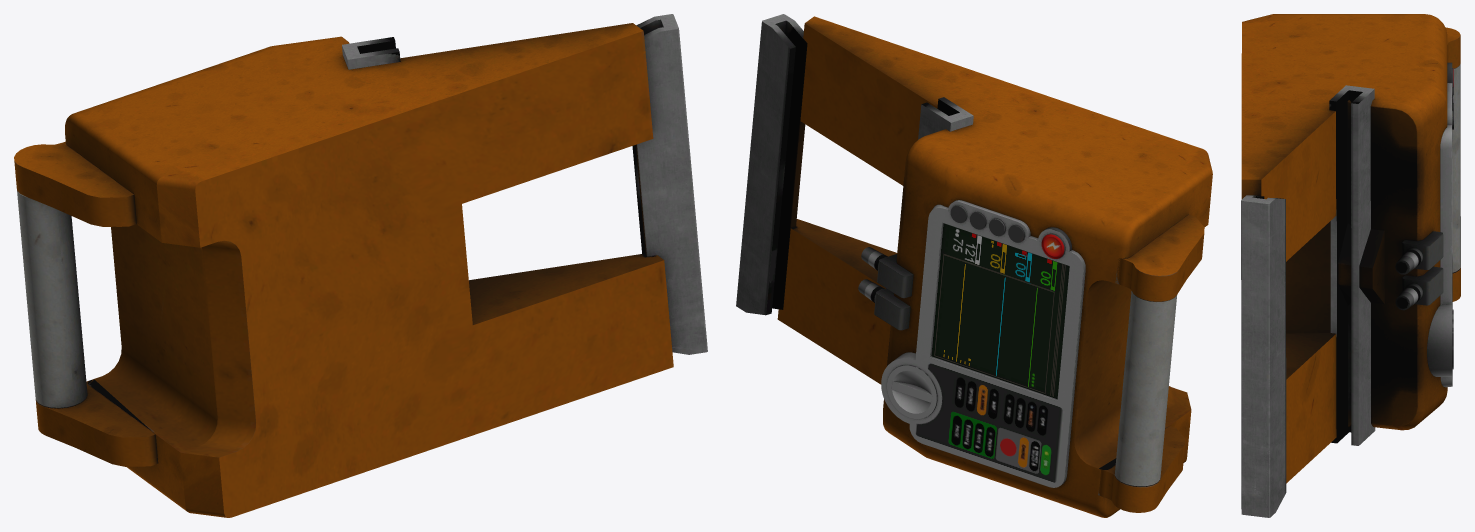
The model's file is w_eq_defibrillator_no_paddles.glb.
3 renders of one model, left to right at view 1: azimuth 30°, elevation 25°; view 2: azimuth 150°, elevation 25°; view 3: azimuth 270°, elevation 25°, orthographic. The views are drawn at different scales.
Visible parts, largest first — view 1: w_eq_defibrillator_no_paddles; view 2: w_eq_defibrillator_no_paddles; view 3: w_eq_defibrillator_no_paddles.
Part boxes in pixels (left/top/right/bottom): w_eq_defibrillator_no_paddles: left=14, top=14, right=707, bottom=517; w_eq_defibrillator_no_paddles: left=736, top=14, right=1212, bottom=517; w_eq_defibrillator_no_paddles: left=1241, top=14, right=1460, bottom=517.
Bounding box in the file's own units: 0.2107 × 0.132 × 0.0743.
Materials: 1 (1 with a texture image).
